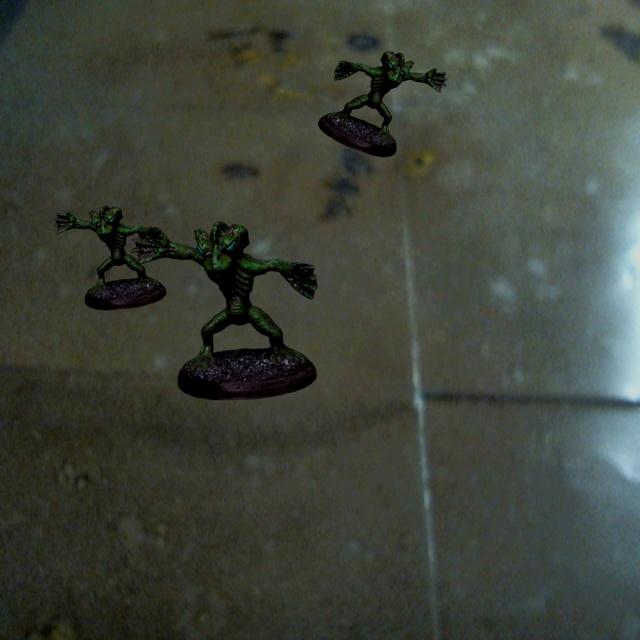pieza_juego: (130, 221, 317, 399), (318, 51, 447, 156), (53, 205, 166, 309)
